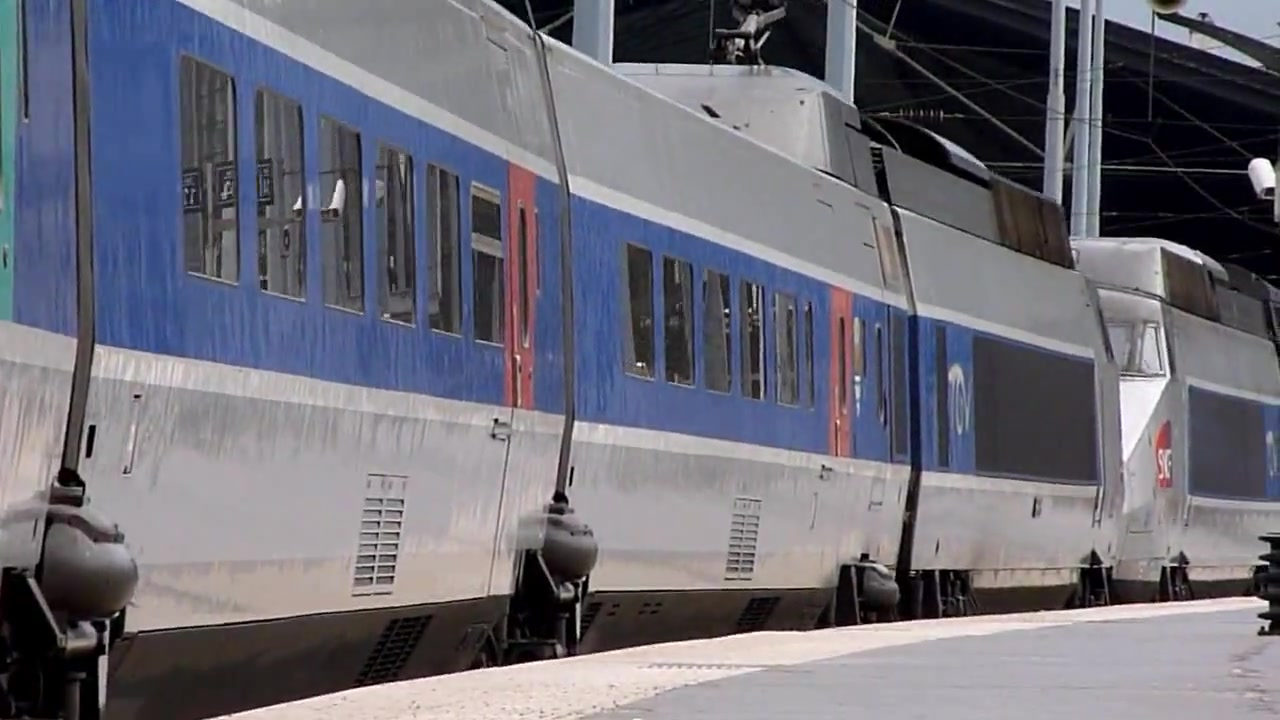train: (1, 1, 1280, 704)
